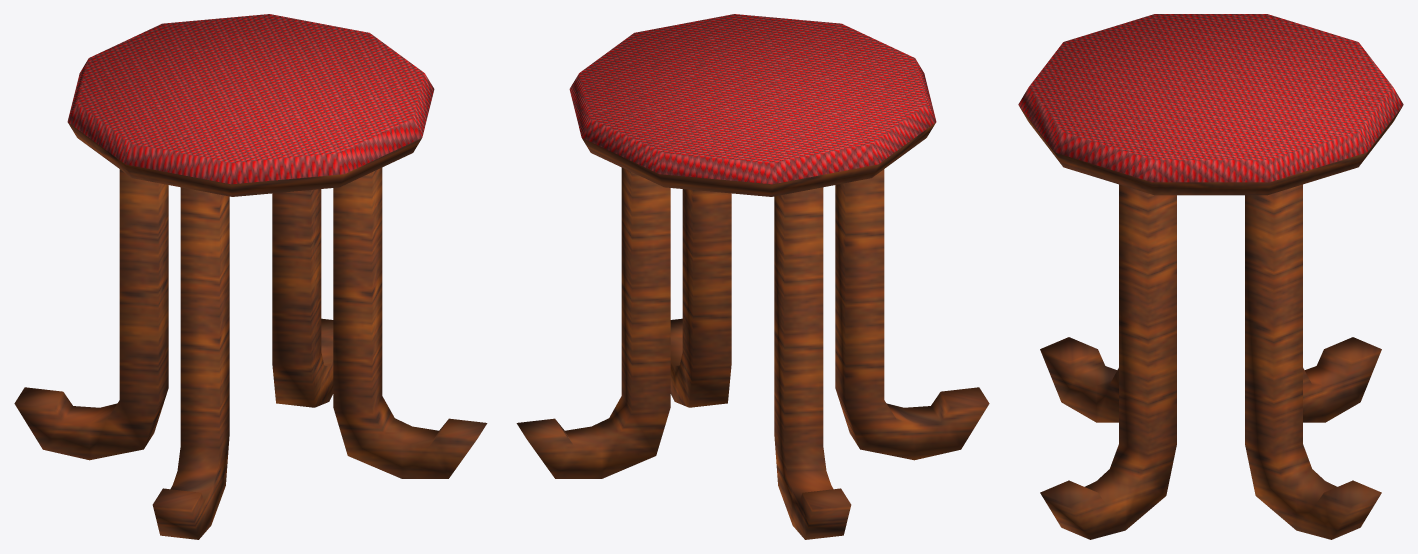
Rendered from Char.fbx.
3 views of the same model, side by side, from view 1: azimuth 30°, elevation 25°; view 2: azimuth 150°, elevation 25°; view 3: azimuth 270°, elevation 25° (orthographic). The views are drawn at different scales.
Parts seen in each view (by area): view 1: obj4, obj1; view 2: obj4, obj1; view 3: obj1, obj4.
Boxes of the visible parts, bbox=[...] form: obj4: bbox=[14, 167, 487, 539]; obj1: bbox=[67, 14, 434, 196]; obj4: bbox=[516, 167, 989, 539]; obj1: bbox=[569, 14, 936, 196]; obj1: bbox=[1018, 14, 1403, 195]; obj4: bbox=[1040, 184, 1381, 539].
Size of the model in its own units: 218 by 232 by 211.
1 material, 1 textured.
